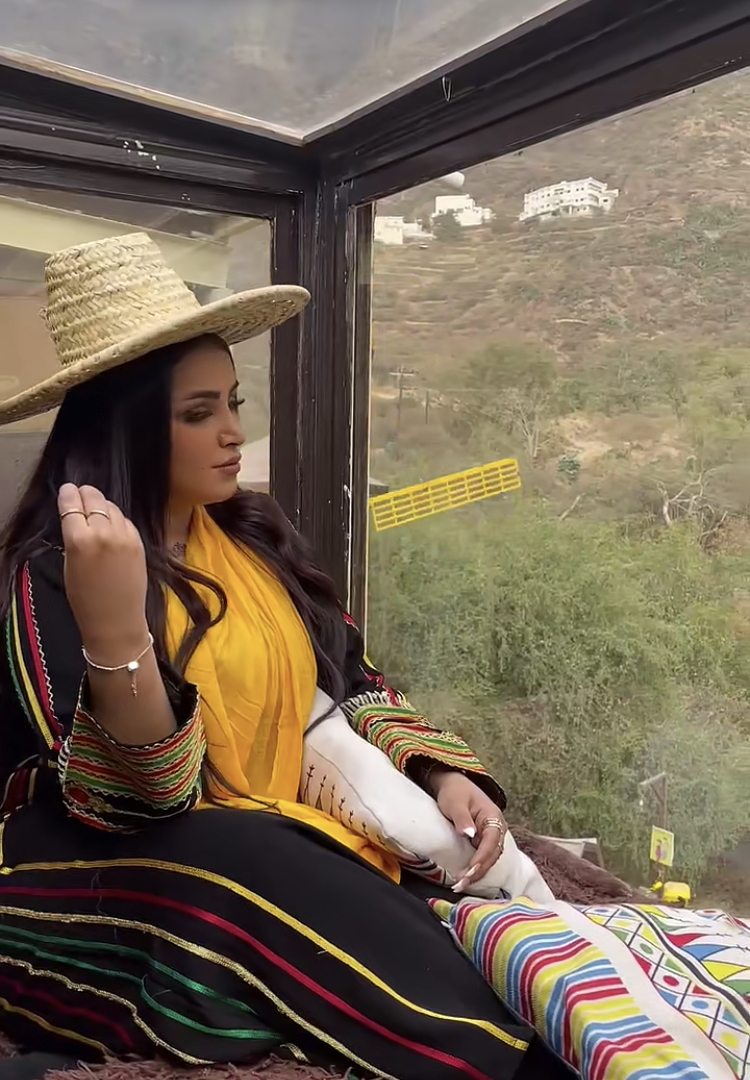Saudi_Founding_Day: (1, 222, 541, 1080)
